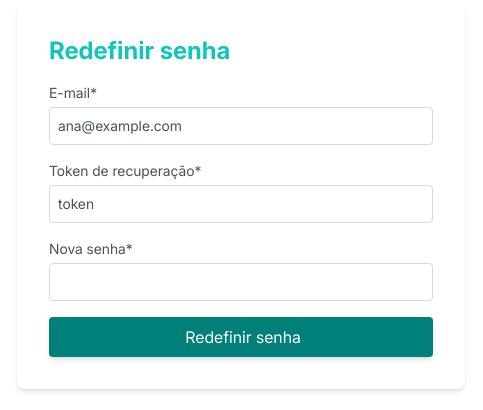
Test: password journeys › resets a password from a recovery link
The image size is (483, 410).
Step 1. Type "SenhaSegura1!" into the password field labelled "Nova senha*" → (241, 282), box x1=49 y1=263 x2=433 y2=301
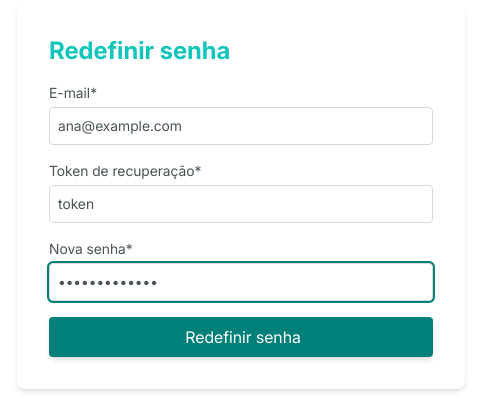
Step 2. Click the button "Redefinir senha" → click(241, 337), box x1=49 y1=317 x2=433 y2=357
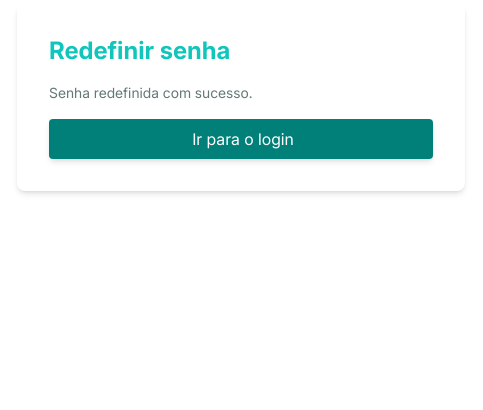
Expected: the text "Senha redefinida com sucesso." is shown, x1=49 y1=84 x2=253 y2=101
